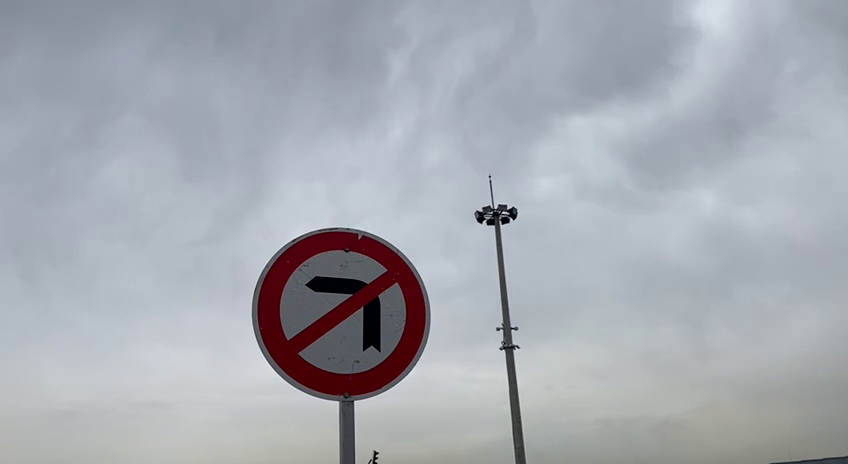noTurnLeft: (248, 219, 438, 405)
